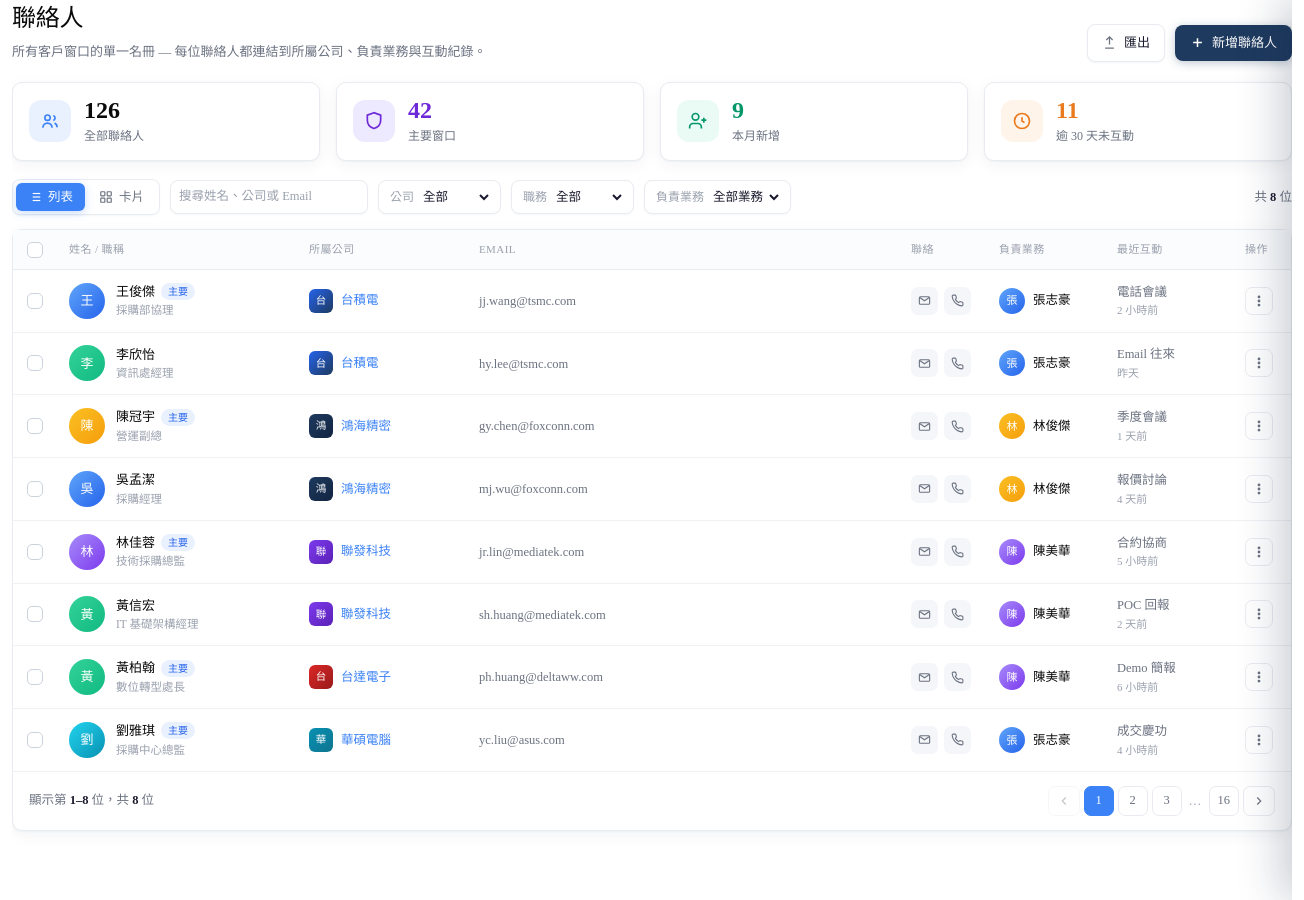
Test: Contacts 搜尋 › 依姓名過濾，只顯示相符的列
Type "佳蓉" into the search field named "搜尋聯絡人". click: (269, 197)
box: [179,181,359,213]
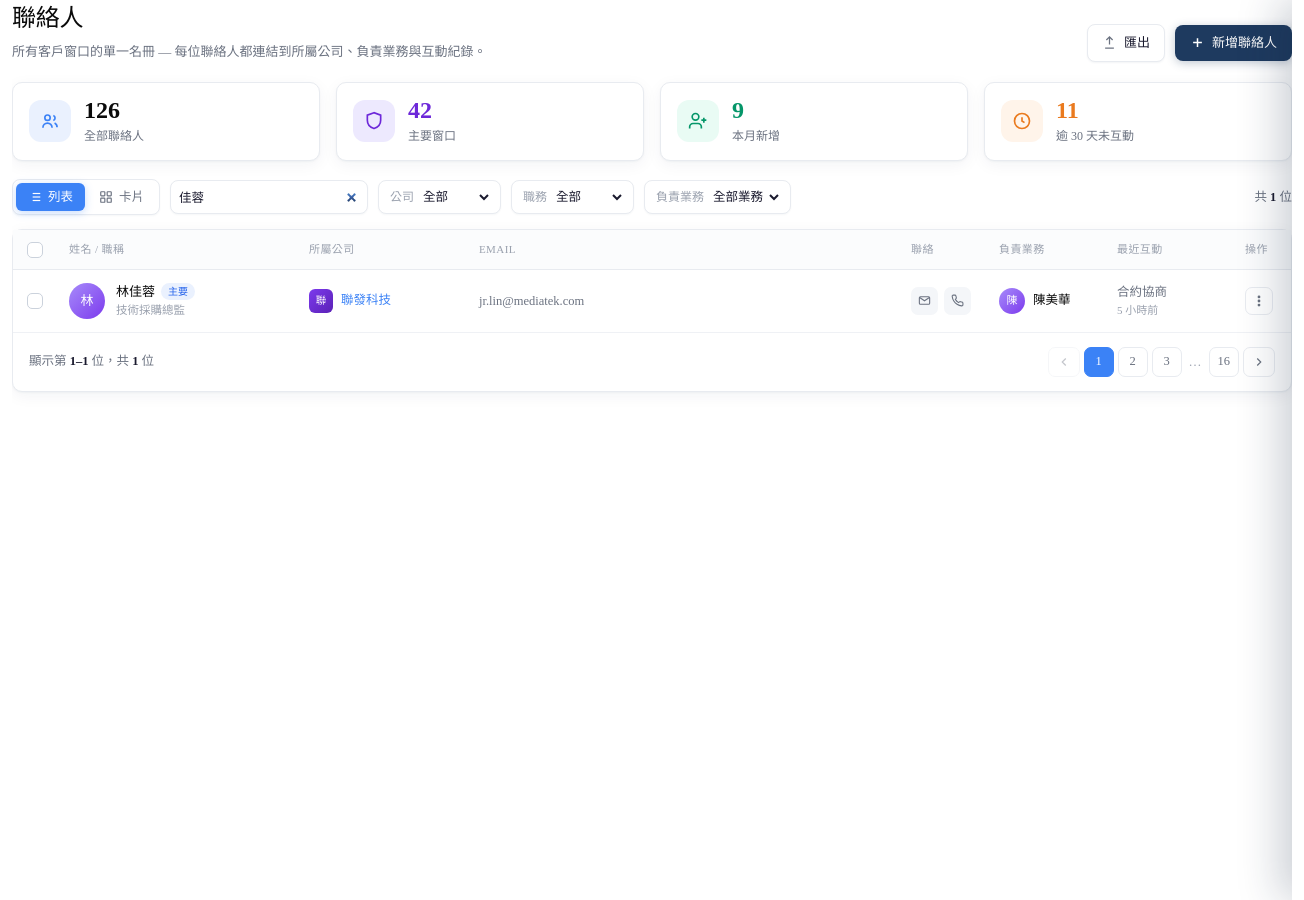
Check: the text "林佳蓉" is shown, box [116,284,155,299]
Check: the text "王俊傑" is gone
